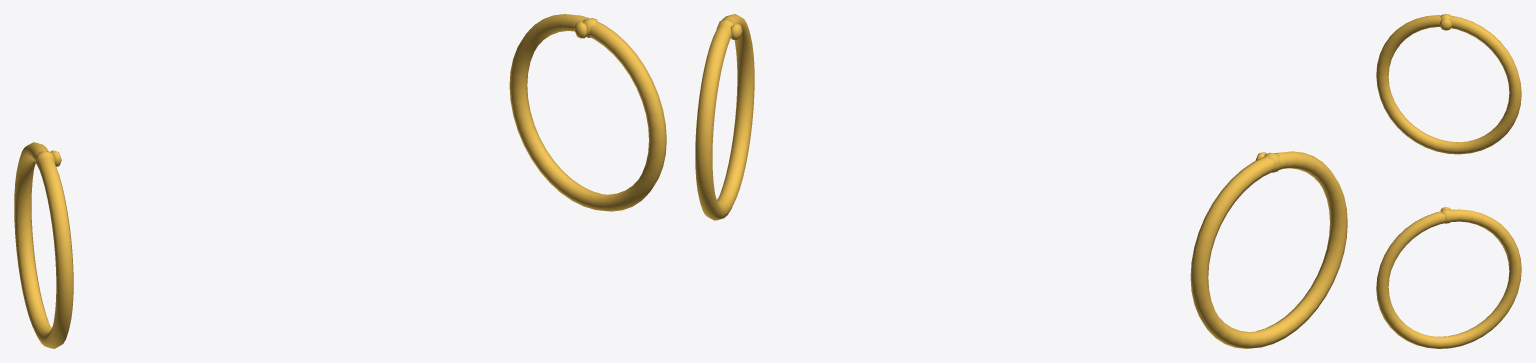
File: big_hoops.glb
3 renders of one model, left to right at view 1: azimuth 30°, elevation 25°; view 2: azimuth 150°, elevation 25°; view 3: azimuth 270°, elevation 25°, orthographic. The views are drawn at different scales.
Visible parts, largest first — view 1: big_hoops; view 2: big_hoops; view 3: big_hoops.
Boxes of the visible parts, <box> form: big_hoops: <box>14,14,666,348</box>; big_hoops: <box>695,14,1347,348</box>; big_hoops: <box>1376,14,1521,348</box>.
Size of the model in its own units: 0.2362 by 0.0706 by 0.0669.
